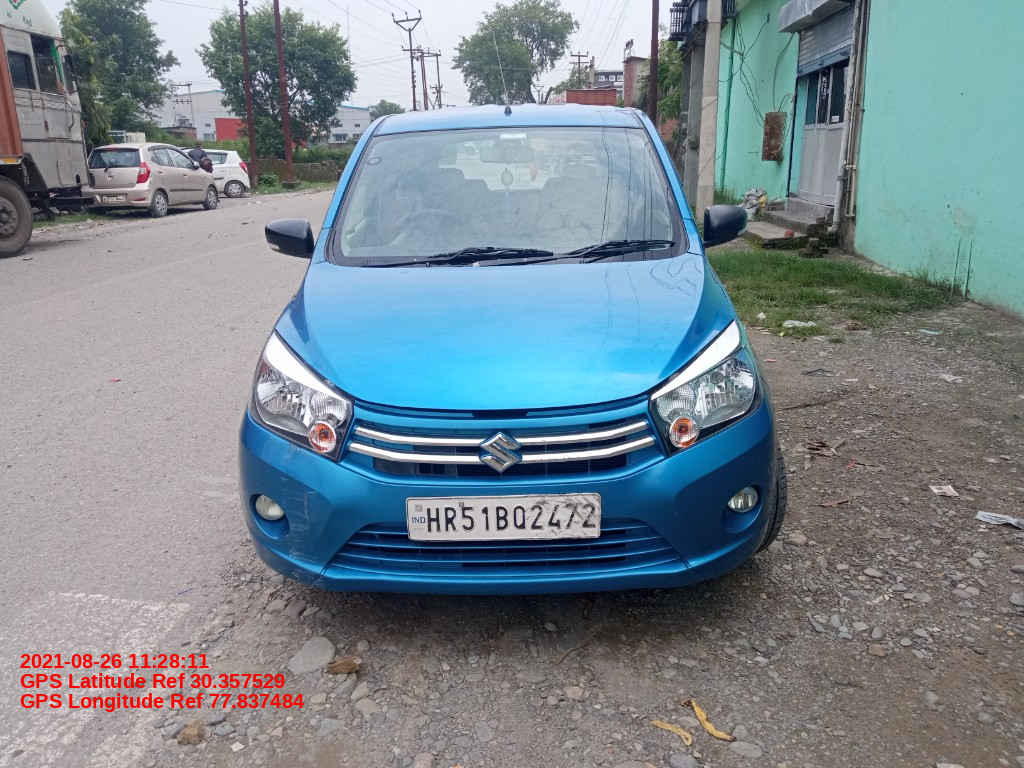Scratched: (280, 443, 316, 581)
